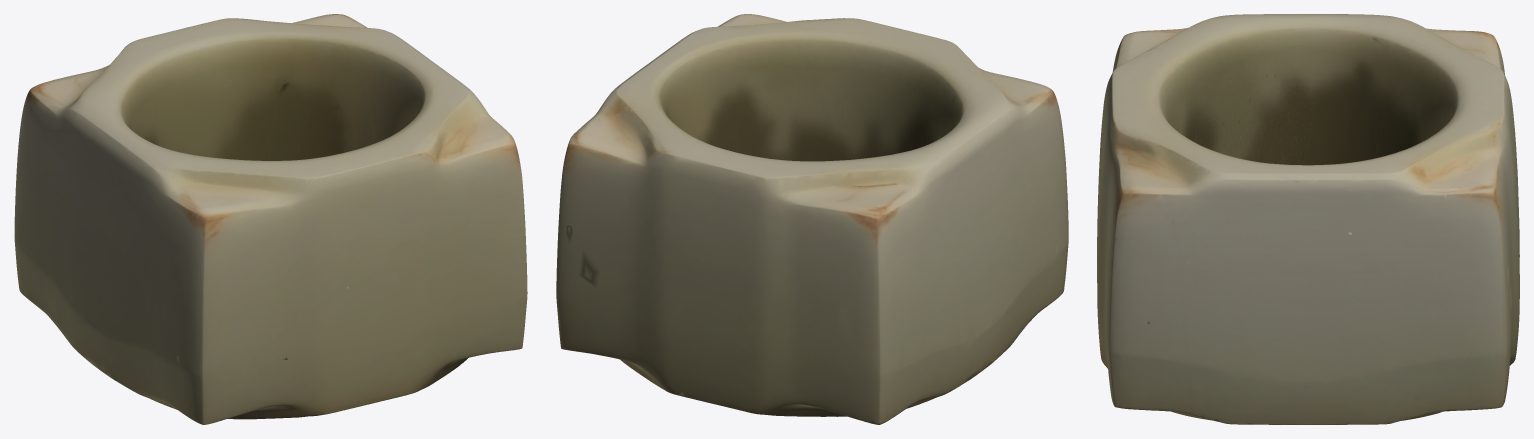
File: zhanguohan.glb
3 renders of one model, left to right at view 1: azimuth 30°, elevation 25°; view 2: azimuth 150°, elevation 25°; view 3: azimuth 270°, elevation 25°, orthographic. The views are drawn at different scales.
Visible parts, largest first — view 1: node_0; view 2: node_0; view 3: node_0.
Part boxes in pixels (x1,y1,x2,y2): node_0: [14, 14, 527, 424]; node_0: [556, 14, 1068, 424]; node_0: [1097, 14, 1519, 424].
Bounding box in the file's own units: 0.8394 × 0.5528 × 0.8488.
Materials: 1 (1 with a texture image).
